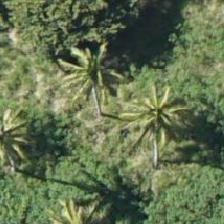coconut_tree: (49, 21, 139, 111), (111, 74, 201, 164), (0, 99, 45, 189)
